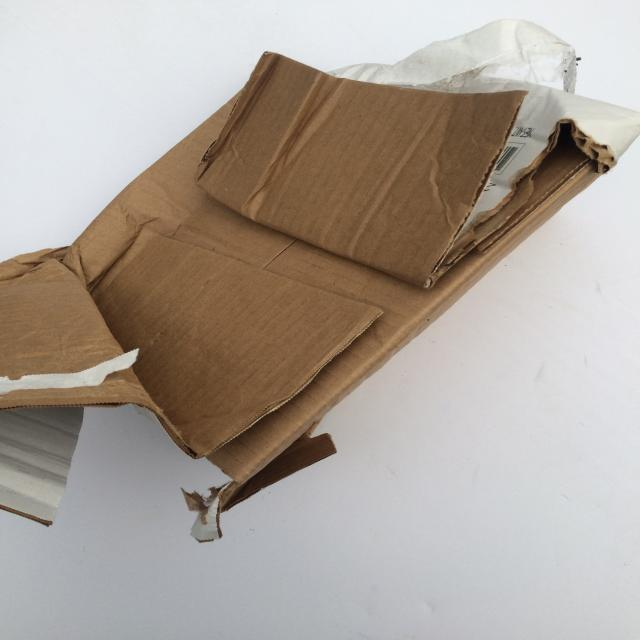cardboard: (0, 14, 640, 564)
